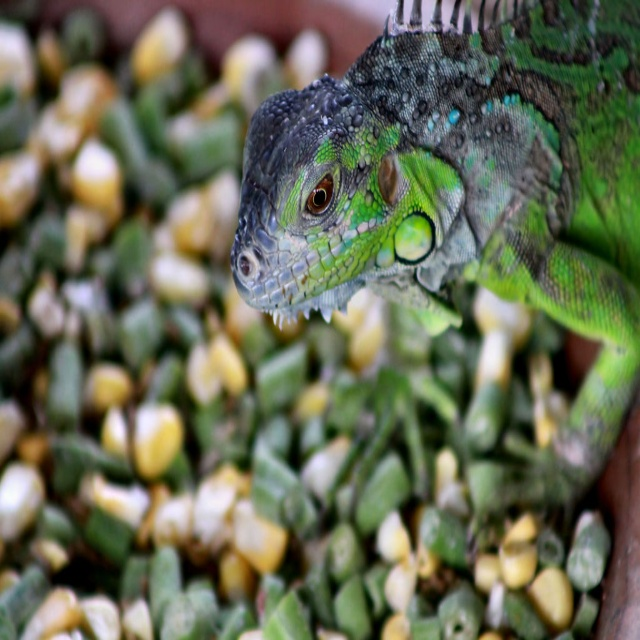Lizard: (230, 4, 640, 520)
